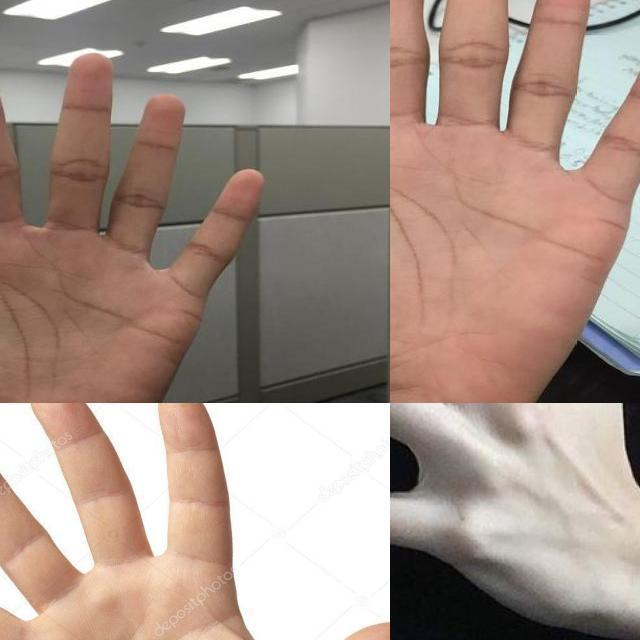hand: (390, 0, 640, 403), (0, 53, 266, 403), (0, 403, 390, 640), (390, 403, 640, 640)
